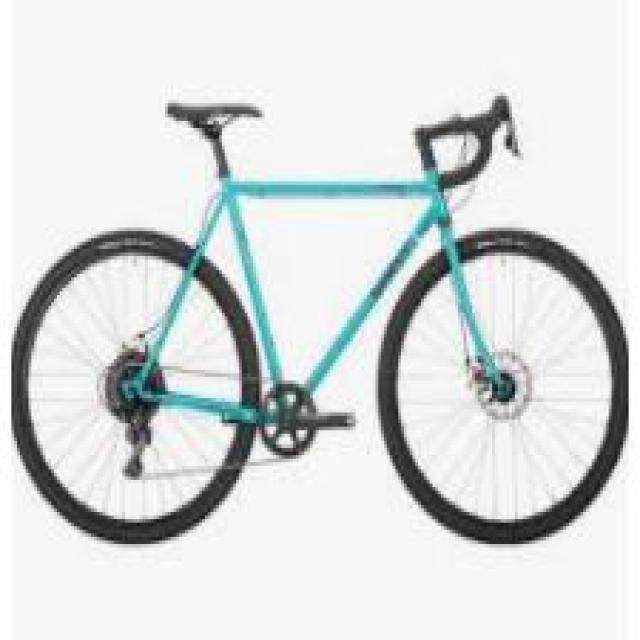bicycle: (21, 86, 638, 577)
